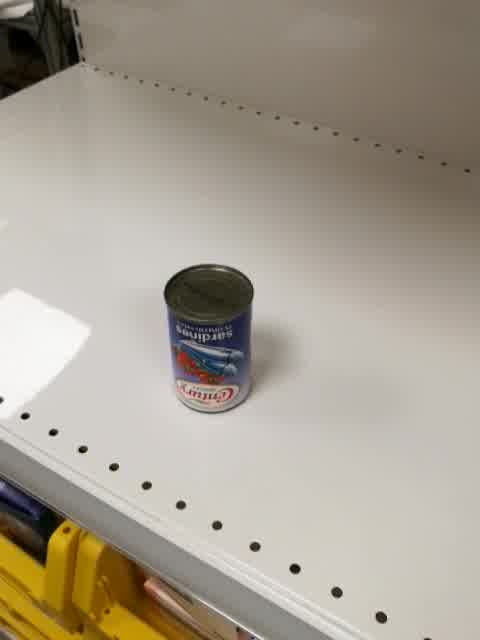sardine: (163, 263, 255, 415)
